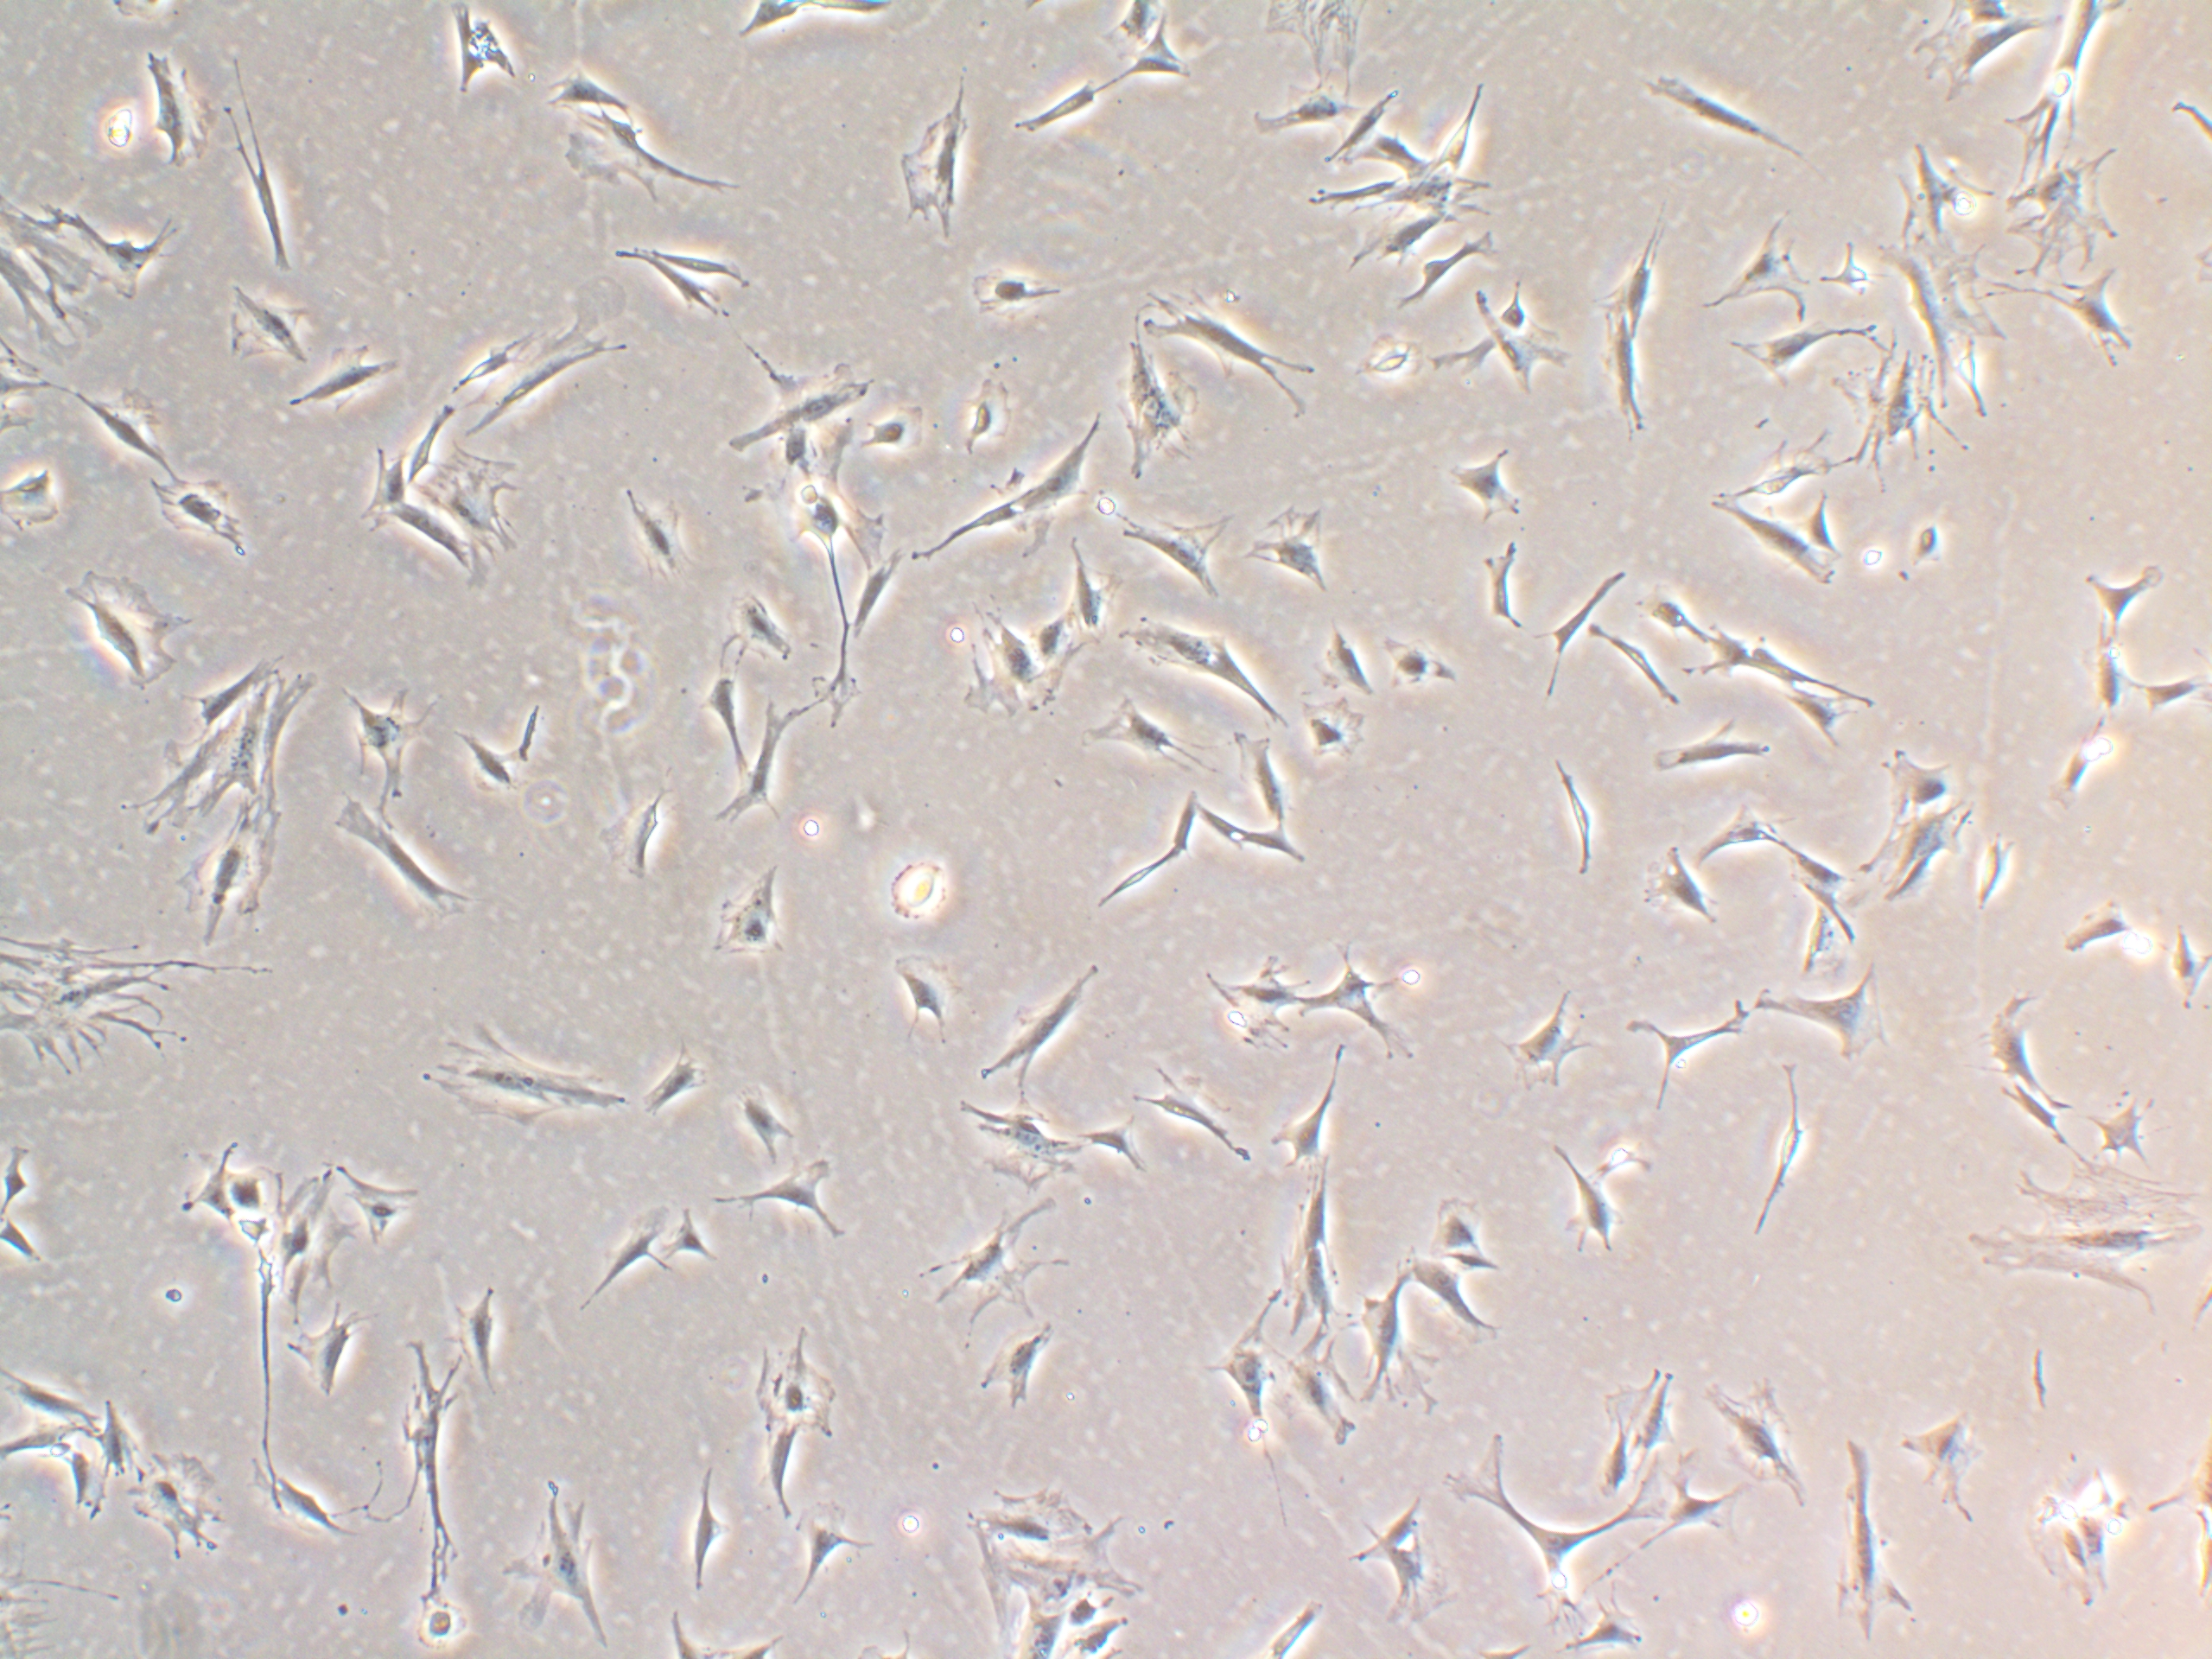Etc: (1493, 732, 1622, 897), (1745, 1040, 1831, 1255), (1583, 619, 1686, 714), (1956, 810, 2029, 932), (1425, 66, 1505, 174), (1078, 849, 1186, 925)
polygonal: (1433, 1424, 1634, 1614), (199, 35, 310, 286), (1130, 284, 1329, 416), (376, 1333, 477, 1584), (507, 1467, 629, 1659), (1832, 1427, 1933, 1654), (320, 802, 488, 938), (1750, 971, 1919, 1105), (549, 108, 744, 221), (975, 953, 1120, 1105), (1108, 331, 1245, 490), (1122, 1054, 1268, 1202), (1700, 1364, 1834, 1520), (1622, 986, 1773, 1122), (1958, 976, 2101, 1115), (1118, 603, 1285, 718), (1299, 927, 1425, 1080), (1641, 63, 1815, 171), (469, 317, 601, 458), (1707, 479, 1844, 610), (324, 660, 448, 802), (714, 359, 885, 457), (1007, 396, 1129, 532), (1268, 1324, 1383, 1467), (700, 1155, 864, 1255), (1900, 1406, 2017, 1539), (233, 1457, 366, 1574), (1240, 490, 1376, 599), (941, 606, 1061, 730), (564, 1188, 676, 1321), (897, 75, 981, 251), (129, 1448, 249, 1567), (1717, 308, 1886, 392), (1209, 1277, 1282, 1467), (71, 373, 188, 491), (1468, 282, 1588, 397), (80, 1352, 167, 1509), (136, 476, 280, 570), (596, 464, 705, 587), (1696, 206, 1825, 310), (1566, 312, 1655, 464), (1496, 974, 1594, 1112), (1536, 1140, 1637, 1272), (777, 1495, 881, 1622), (442, 1269, 533, 1415), (575, 763, 685, 884), (1371, 225, 1510, 317), (608, 235, 730, 340), (664, 1448, 744, 1607), (1723, 634, 1888, 711), (272, 333, 408, 425), (690, 864, 786, 995), (1639, 833, 1749, 945), (1195, 941, 1308, 1047), (1071, 701, 1219, 781), (1266, 1032, 1353, 1168), (1538, 566, 1627, 699), (1583, 206, 1670, 340), (1406, 1251, 1519, 1354), (138, 40, 226, 171), (364, 500, 484, 594), (1226, 720, 1329, 829), (737, 694, 812, 843), (953, 253, 1087, 336), (881, 953, 981, 1065), (1113, 504, 1226, 601), (902, 479, 1024, 570), (1763, 685, 1893, 769), (1430, 439, 1557, 525), (1284, 613, 1397, 709), (691, 655, 773, 788), (327, 1150, 442, 1244), (1353, 1532, 1472, 1622), (1639, 706, 1777, 777), (1994, 1082, 2104, 1171), (275, 1302, 366, 1408), (1270, 1234, 1367, 1330), (1426, 1188, 1527, 1281), (981, 1309, 1066, 1417), (1667, 1452, 1752, 1560), (1111, 7, 1205, 105), (216, 277, 310, 375), (712, 1068, 796, 1175), (2071, 545, 2168, 636), (435, 725, 533, 814), (1195, 805, 1325, 871), (1270, 1157, 1353, 1260), (2045, 274, 2144, 359), (1456, 538, 1536, 641), (174, 1129, 246, 1244), (634, 1032, 711, 1138), (1069, 1114, 1167, 1195), (709, 586, 799, 673), (1049, 532, 1111, 657), (1766, 828, 1860, 911), (2043, 706, 2106, 828), (1557, 1582, 1655, 1659), (1693, 796, 1787, 875), (1632, 573, 1717, 655), (352, 422, 420, 523), (1872, 741, 1973, 809), (1378, 622, 1460, 706), (843, 551, 914, 647), (47, 1438, 111, 1542), (1010, 66, 1099, 139), (751, 1438, 820, 1528), (543, 61, 644, 122), (2062, 884, 2139, 962), (2078, 638, 2148, 721), (843, 394, 942, 451), (2137, 669, 2212, 730), (660, 1204, 723, 1267), (1799, 490, 1838, 570)
small-round: (892, 831, 965, 934), (402, 1579, 489, 1659), (1346, 328, 1435, 399), (1898, 518, 1972, 587), (1585, 1127, 1683, 1178)
spread: (963, 1469, 1163, 1659), (1952, 1157, 2212, 1298), (0, 922, 190, 1105), (1874, 220, 2024, 415), (423, 1025, 634, 1150), (44, 558, 218, 702), (157, 673, 308, 816), (418, 436, 531, 570)
